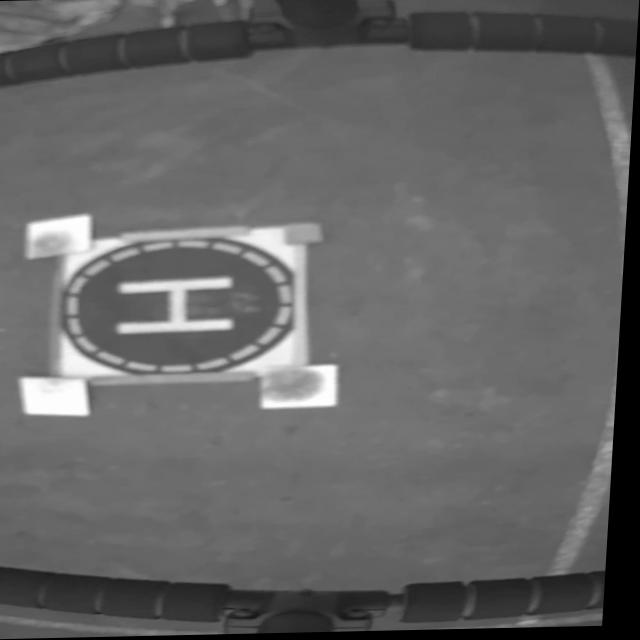Helipad: (118, 276, 239, 333)
